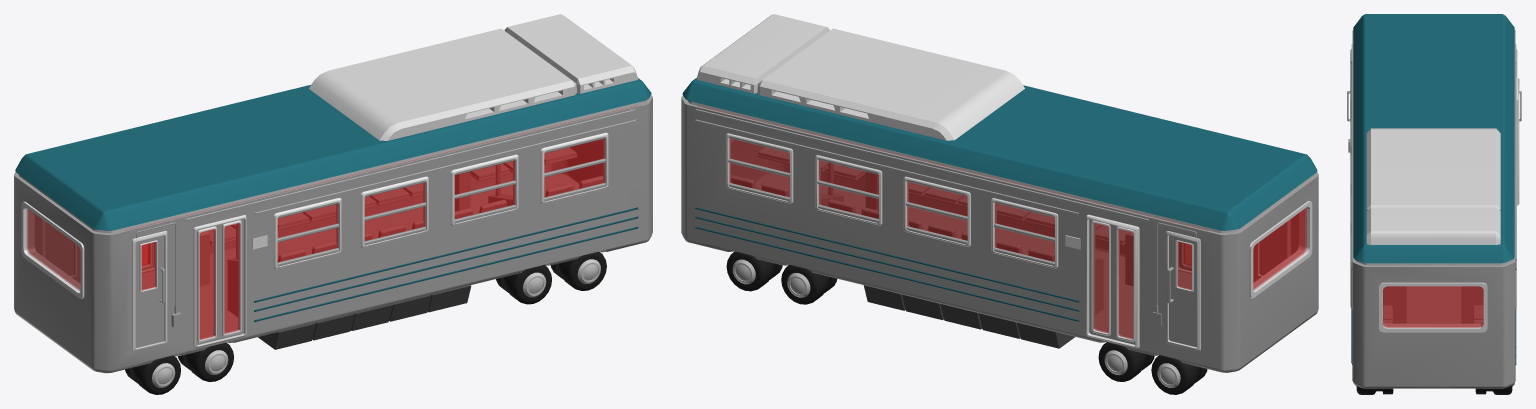
Rendered from train.fbx.
3 views of the same model, side by side, from view 1: azimuth 30°, elevation 25°; view 2: azimuth 150°, elevation 25°; view 3: azimuth 270°, elevation 25° (orthographic). The views are drawn at different scales.
Parts seen in each view (by area): view 1: pCube104; view 2: pCube104; view 3: pCube104.
Boxes of the visible parts, x1,y1,x2,y2 form: pCube104: (14, 14, 652, 394); pCube104: (681, 14, 1318, 394); pCube104: (1347, 14, 1521, 394).
Bounding box in the file's own units: 35.21 × 12.43 × 10.65.
